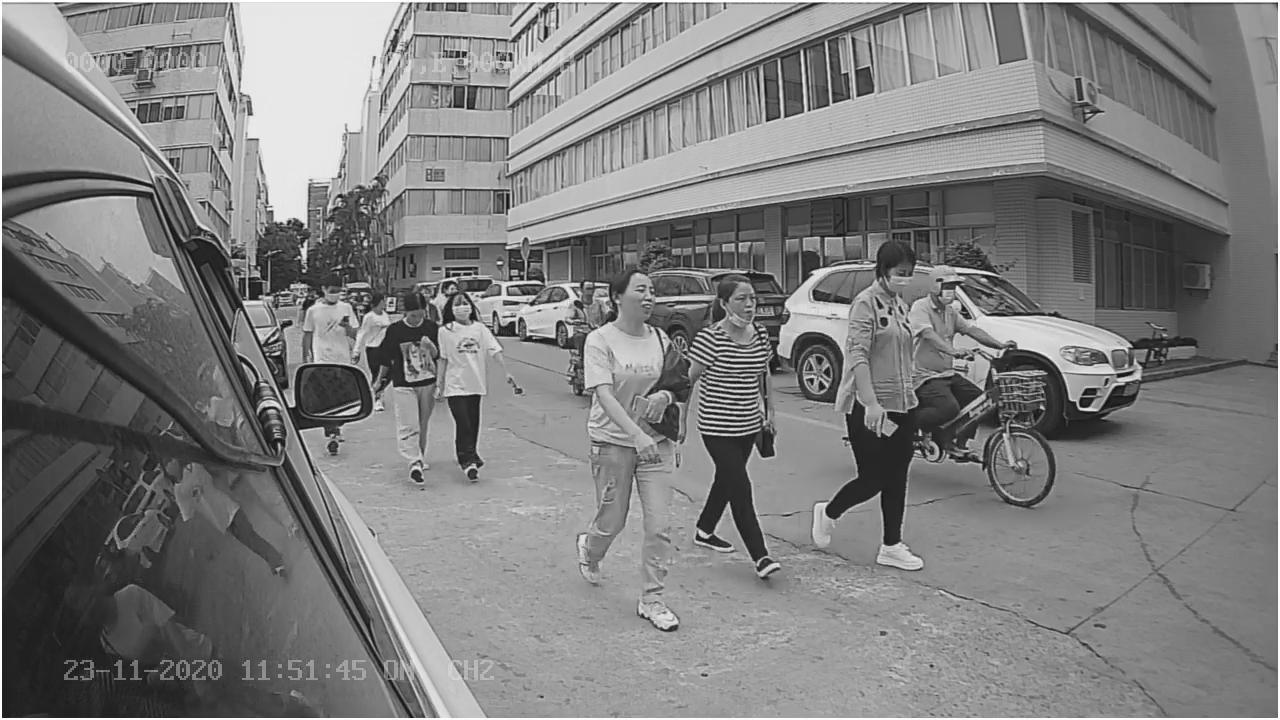person: (806, 240, 950, 570), (577, 265, 689, 630), (431, 287, 519, 481)
